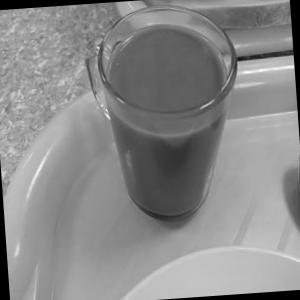coffee: (64, 2, 260, 241)
